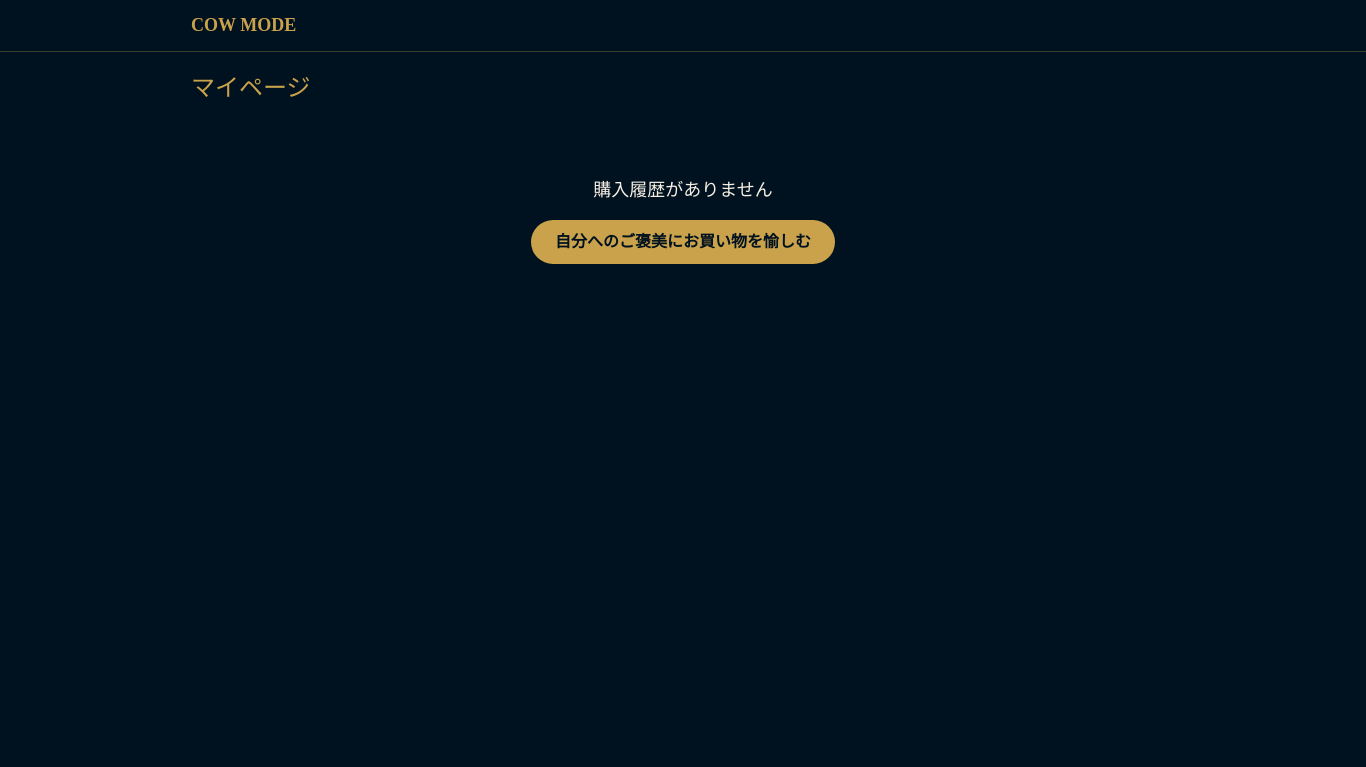
Test: MyPage(履歴がないとき) › カード未作成の人がリンクを押すと、トップページ(カード作成)に移る
The width and height of the screenshot is (1366, 767).
Step 1. Click the link "自分へのご褒美にお買い物を愉しむ" → (683, 242), box [531,220,835,264]
(page scrolled)
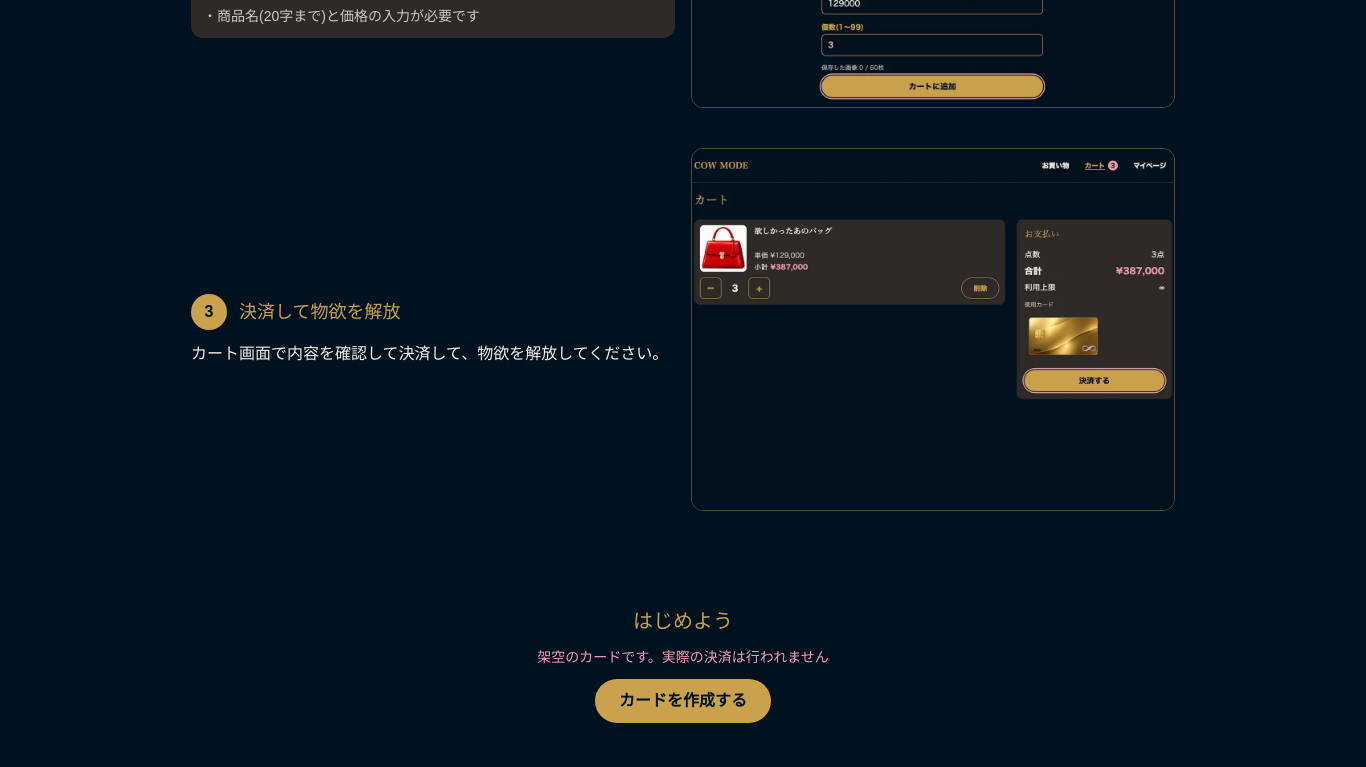
Expected: the button "カードを作成する" is shown, [595,680,771,724]
